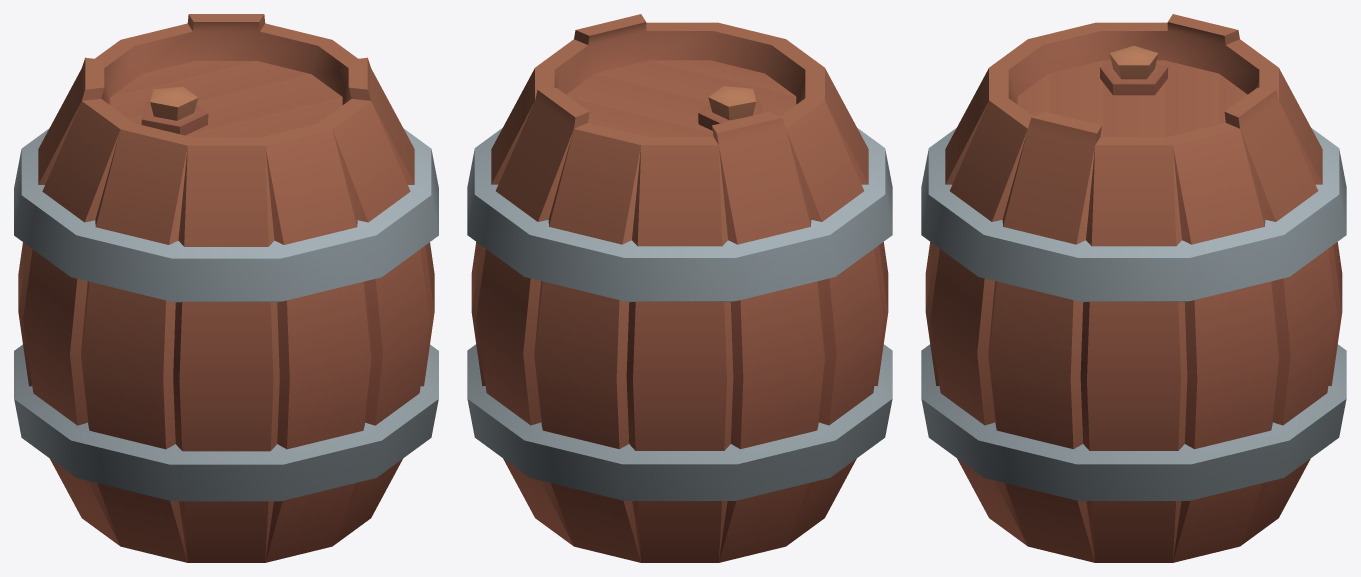
The model's file is barrel_big.fbx.
3 renders of one model, left to right at view 1: azimuth 30°, elevation 25°; view 2: azimuth 150°, elevation 25°; view 3: azimuth 270°, elevation 25°, orthographic.
Visible parts, largest first — view 1: barrel_large; view 2: barrel_large; view 3: barrel_large.
Part boxes in pixels (x1,y1,x2,y2): barrel_large: (14, 14, 438, 562); barrel_large: (467, 14, 892, 562); barrel_large: (921, 14, 1346, 562).
Size of the model in its own units: 180 by 200 by 180.
1 material, 1 textured.
